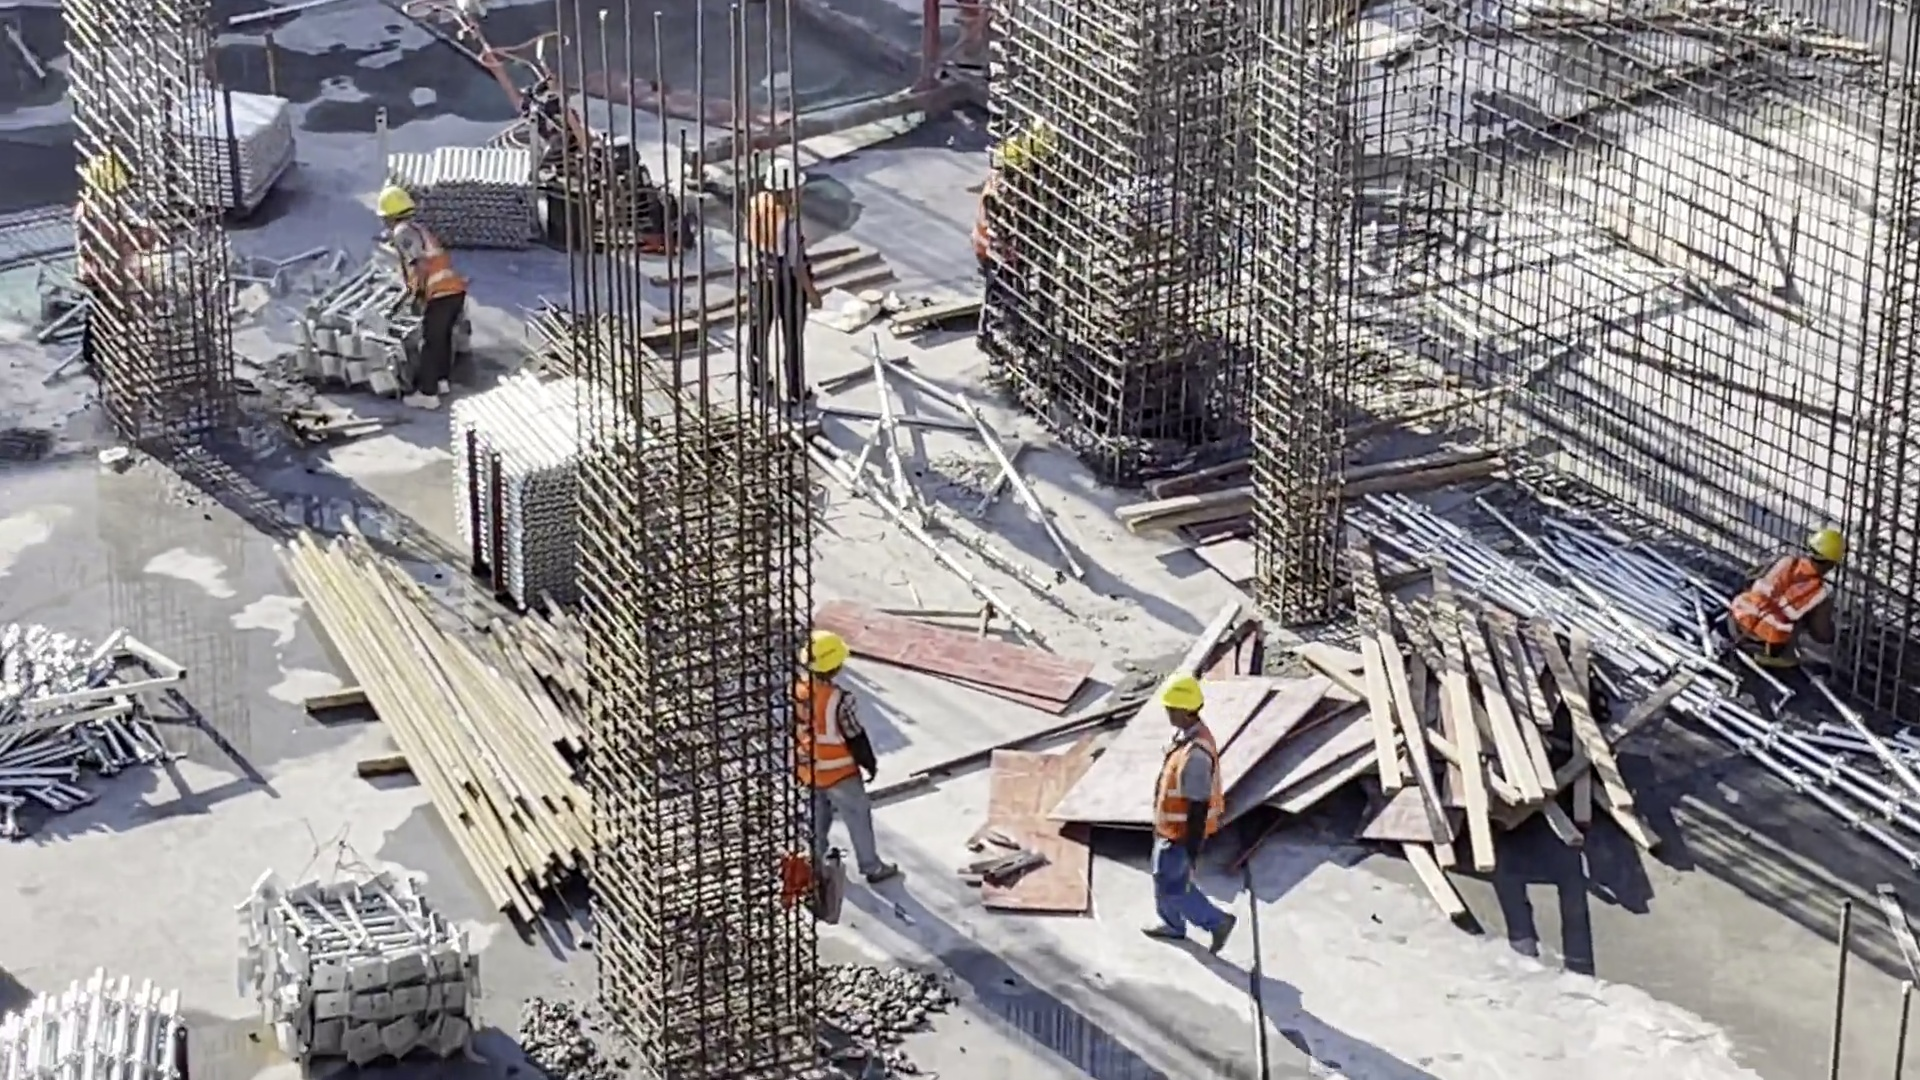board: (822, 572, 1089, 929), (1088, 635, 1378, 913)
helmet: (1808, 522, 1860, 575), (792, 633, 845, 667), (761, 159, 804, 198), (1165, 683, 1211, 715), (378, 182, 412, 222)
person: (1133, 668, 1248, 960), (1711, 498, 1870, 693), (786, 627, 900, 893), (363, 172, 480, 415), (741, 148, 815, 419)
rebar: (259, 509, 664, 922)
scaffold: (211, 816, 503, 1080), (435, 370, 663, 598), (360, 118, 564, 248), (12, 944, 201, 1080), (118, 82, 293, 200)
vest: (1141, 735, 1235, 863), (785, 671, 875, 800), (1733, 557, 1834, 656), (738, 186, 808, 300), (387, 223, 459, 315)
